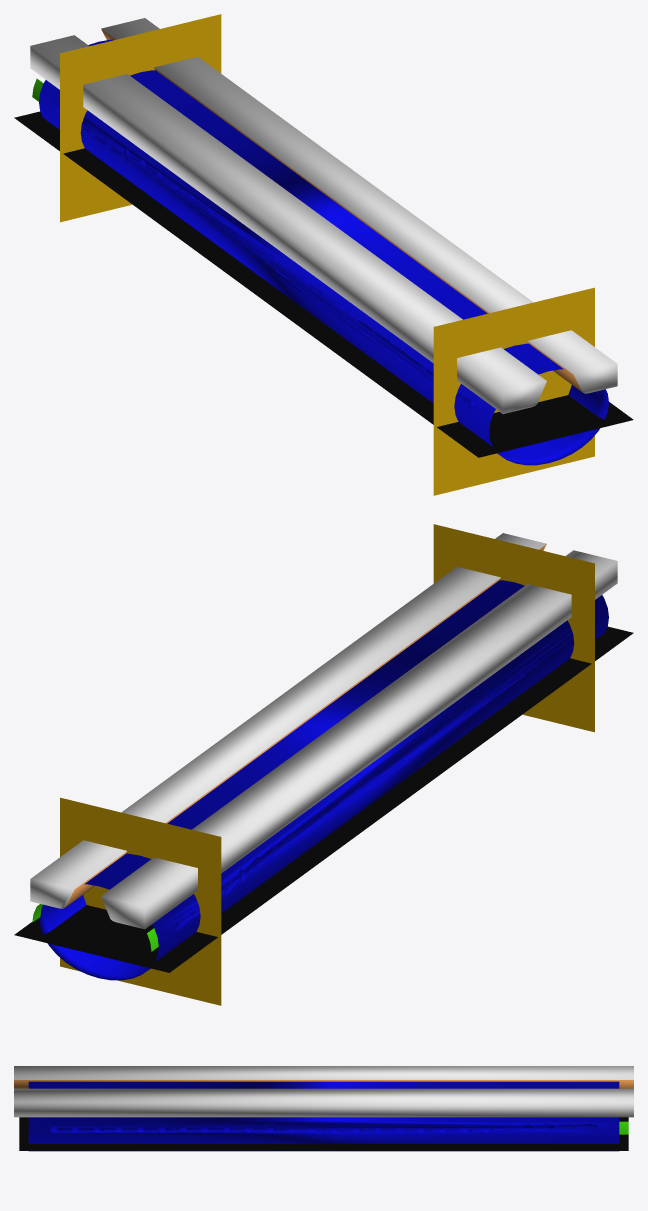
The model's file is plane_interior.fbx.
3 renders of one model, top to bottom at view 1: azimuth 30°, elevation 25°; view 2: azimuth 150°, elevation 25°; view 3: azimuth 270°, elevation 25°, orthographic. The views are drawn at different scales.
Parts seen in each view (by area): view 1: Plane.001; view 2: Plane.001; view 3: Plane.001.
Part boxes in pixels (box(x1,y1,x2,y2)): Plane.001: box(14, 14, 633, 495); Plane.001: box(14, 524, 633, 1005); Plane.001: box(14, 1066, 633, 1151).
Size of the model in its own units: 5657 by 5657 by 28680.
